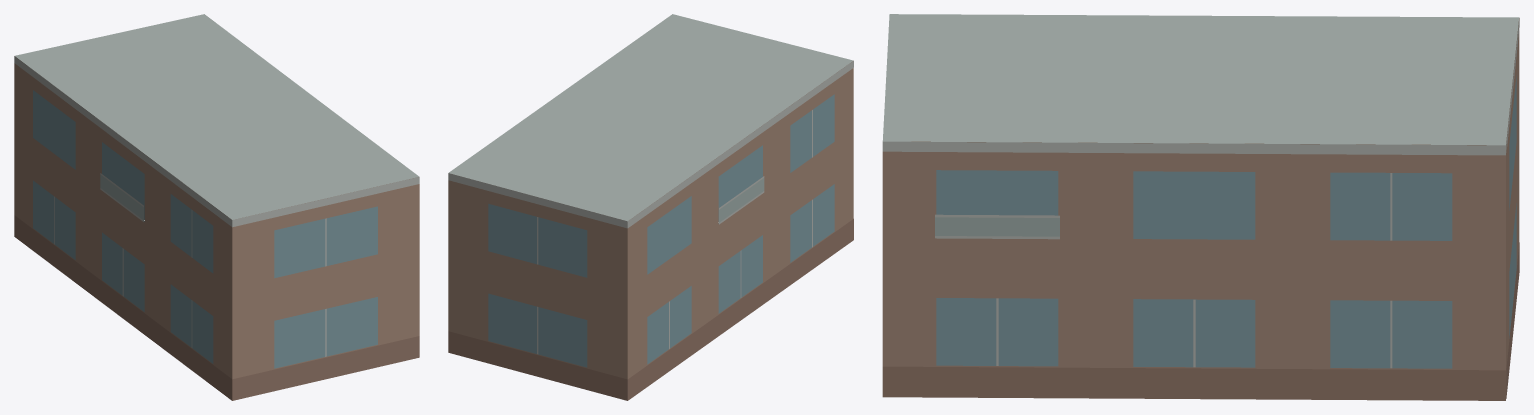
Rendered from survey-upis-32575829.glb.
3 renders of one model, left to right at view 1: azimuth 30°, elevation 25°; view 2: azimuth 150°, elevation 25°; view 3: azimuth 270°, elevation 25°, orthographic. The views are drawn at different scales.
Parts seen in each view (by area): view 1: survey-upis-32575829.tmp; view 2: survey-upis-32575829.tmp; view 3: survey-upis-32575829.tmp.
Boxes of the visible parts, x1,y1,x2,y2 form: survey-upis-32575829.tmp: [14, 14, 419, 400]; survey-upis-32575829.tmp: [448, 14, 853, 400]; survey-upis-32575829.tmp: [882, 14, 1519, 400].
Bounding box in the file's own units: 6.72 × 6.1 × 13.78.
